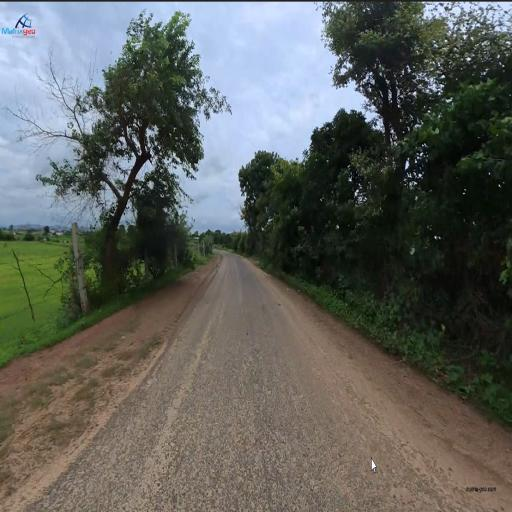ravelling: (155, 392, 278, 482)
